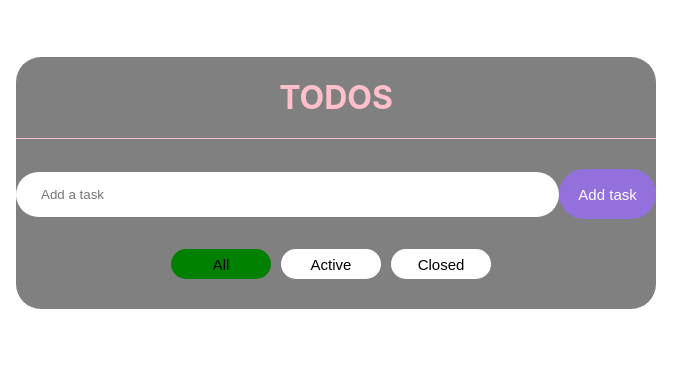
Test: delete task, change task status
The image size is (673, 367).
Type "go to gym" into the field with test id "input".
click(288, 194); type("go to gym")  # box [16,172,559,217]
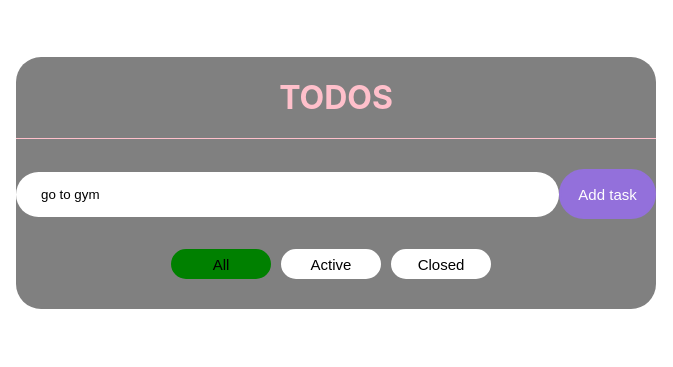
Click the button with test id "add todo button".
click(608, 194)  # box [559,169,656,219]
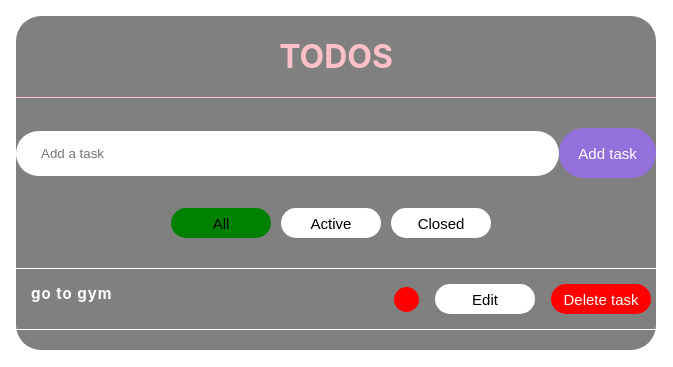
Result: the text "go to gym" is shown at [31,284,112,314]
Click the element with test id "change todo status".
click(406, 299)  # box [394,287,419,312]
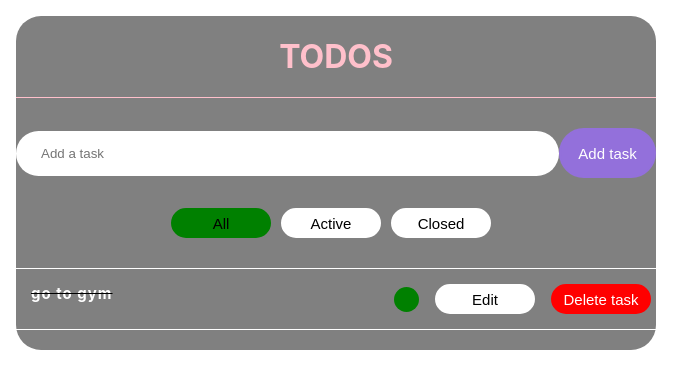
Click the button with test id "delete todo button".
click(601, 299)  # box [551,284,651,314]
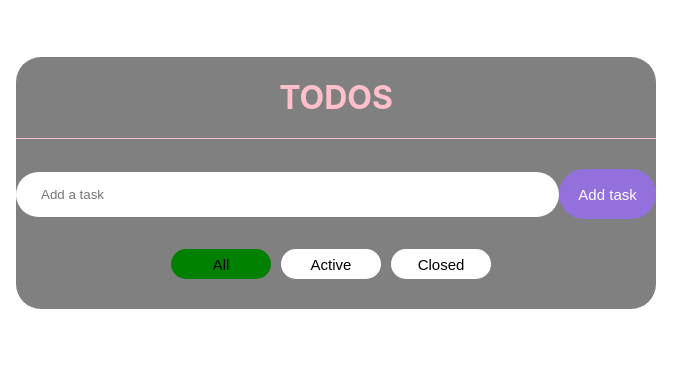
Result: the field with test id "input" is empty at [16,172,559,217]
Result: the element with test id "todo" is gone
